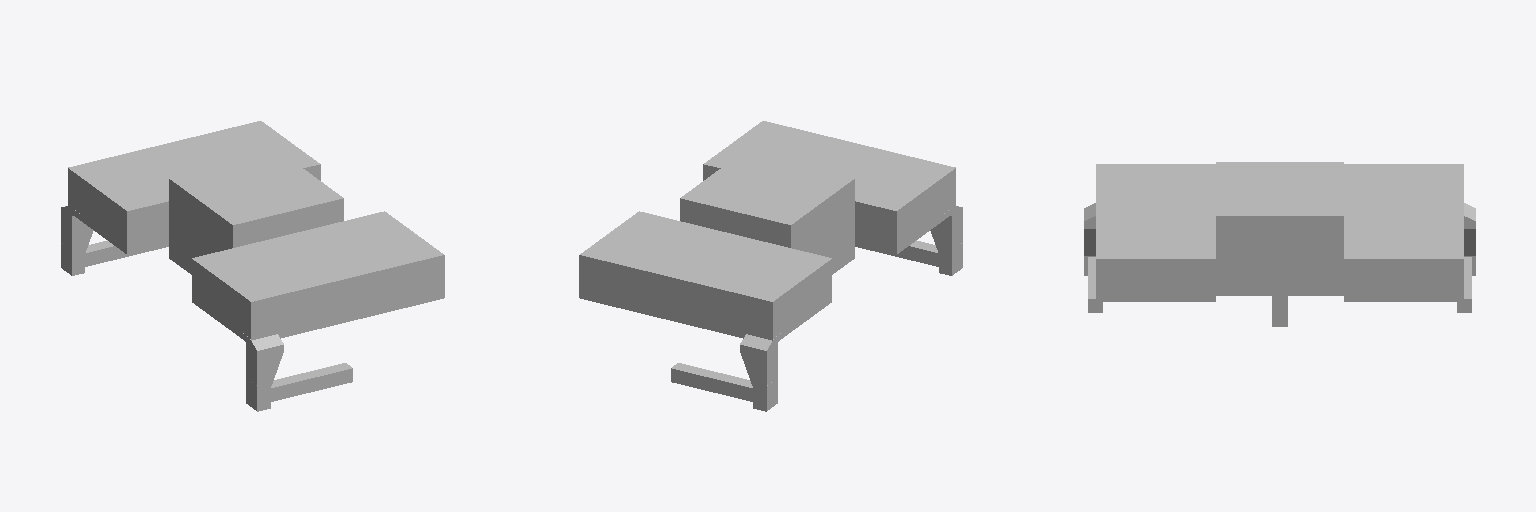
Rendered from sw220k_top_a.obj.
3 views of the same model, side by side, from view 1: azimuth 30°, elevation 25°; view 2: azimuth 150°, elevation 25°; view 3: azimuth 270°, elevation 25° (orthographic).
Visible parts, largest first — view 1: top_selection; view 2: top_selection; view 3: top_selection.
Boxes of the visible parts, <box> form: top_selection: <box>61,121,444,411</box>; top_selection: <box>579,121,962,411</box>; top_selection: <box>1084,162,1475,326</box>.
Bounding box in the file's own units: 1.74 × 1.16 × 3.06.